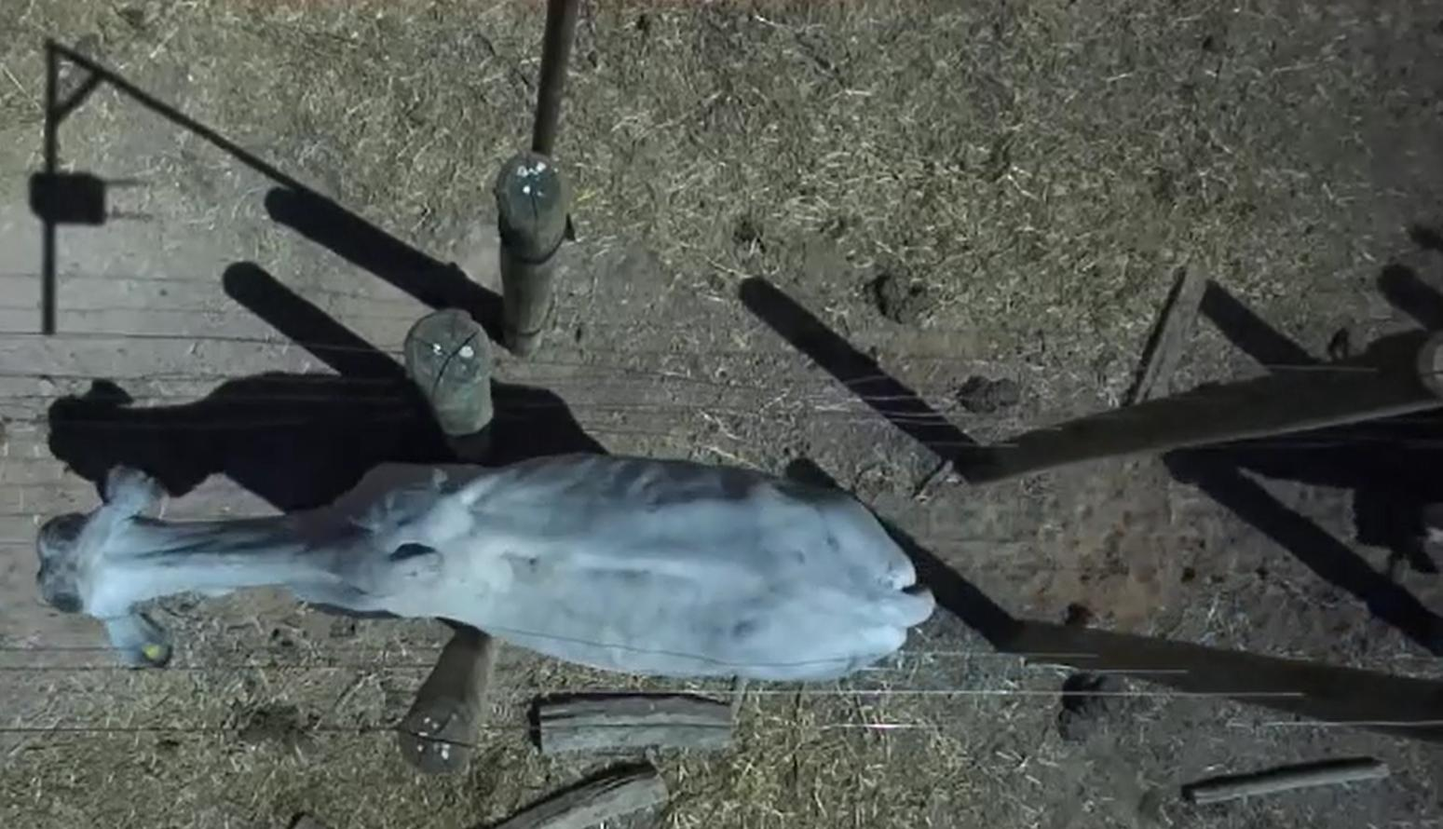cattle: (34, 447, 937, 695)
